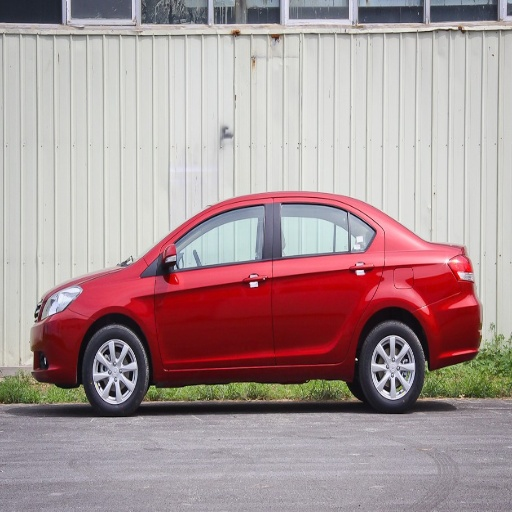back_left_door: (276, 200, 381, 362)
front_left_door: (155, 202, 275, 368)
